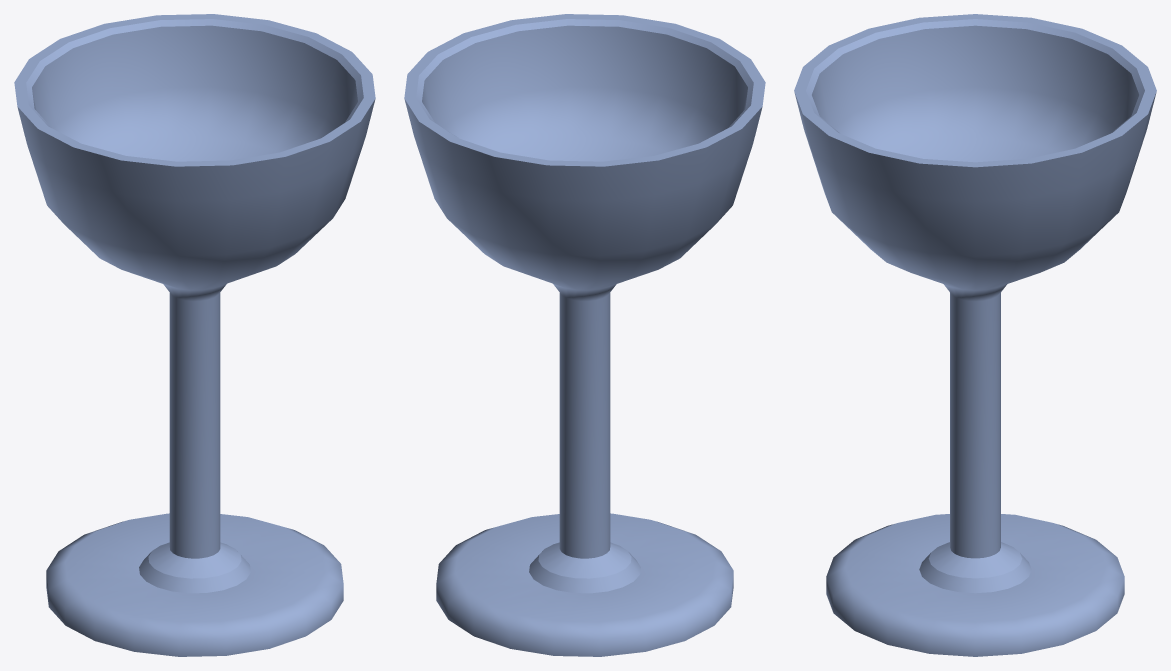
The model's file is Glass04.fbx.
The picture shows the model from 3 angles, left to right: view 1: azimuth 30°, elevation 25°; view 2: azimuth 150°, elevation 25°; view 3: azimuth 270°, elevation 25°; orthographic projection.
Visible parts, largest first — view 1: Glass04_Modelling_v001:Glass_Glass; view 2: Glass04_Modelling_v001:Glass_Glass; view 3: Glass04_Modelling_v001:Glass_Glass.
Boxes of the visible parts, box(x1,y1,x2,y2) form: Glass04_Modelling_v001:Glass_Glass: box(14, 14, 375, 656); Glass04_Modelling_v001:Glass_Glass: box(404, 14, 765, 656); Glass04_Modelling_v001:Glass_Glass: box(794, 14, 1156, 656).
Bounding box in the file's own units: 10.99 × 16.81 × 10.99.
1 material, 1 textured.
